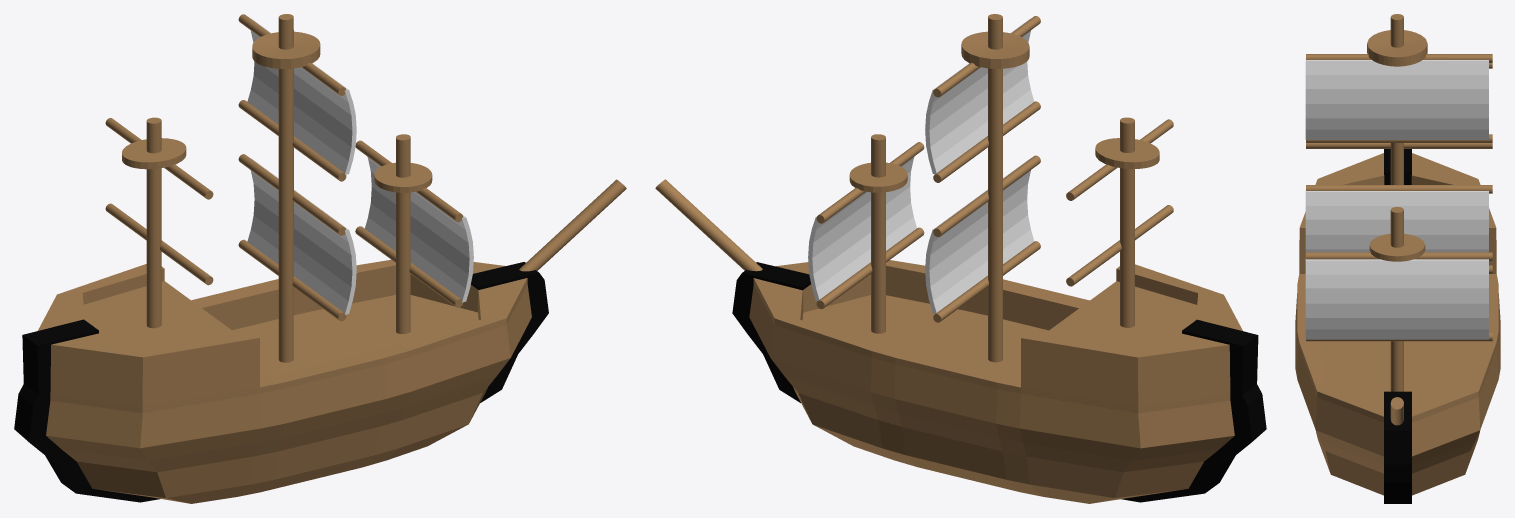
Rendered from Ship.fbx.
3 views of the same model, side by side, from view 1: azimuth 30°, elevation 25°; view 2: azimuth 150°, elevation 25°; view 3: azimuth 270°, elevation 25° (orthographic). The views are drawn at different scales.
Visible parts, largest first — view 1: 船; view 2: 船; view 3: 船.
Part boxes in pixels (x1,y1,x2,y2): 船: (14, 14, 626, 503); 船: (655, 14, 1266, 503); 船: (1295, 14, 1500, 503).
Size of the model in its own units: 911 by 648 by 287.
